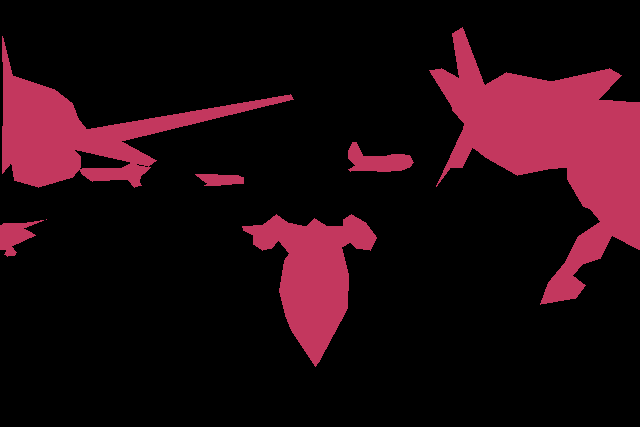Airplane: (429, 27, 640, 304), (2, 36, 293, 188), (242, 214, 376, 367), (348, 142, 413, 171), (79, 162, 150, 187), (0, 219, 46, 257), (195, 174, 244, 186)
